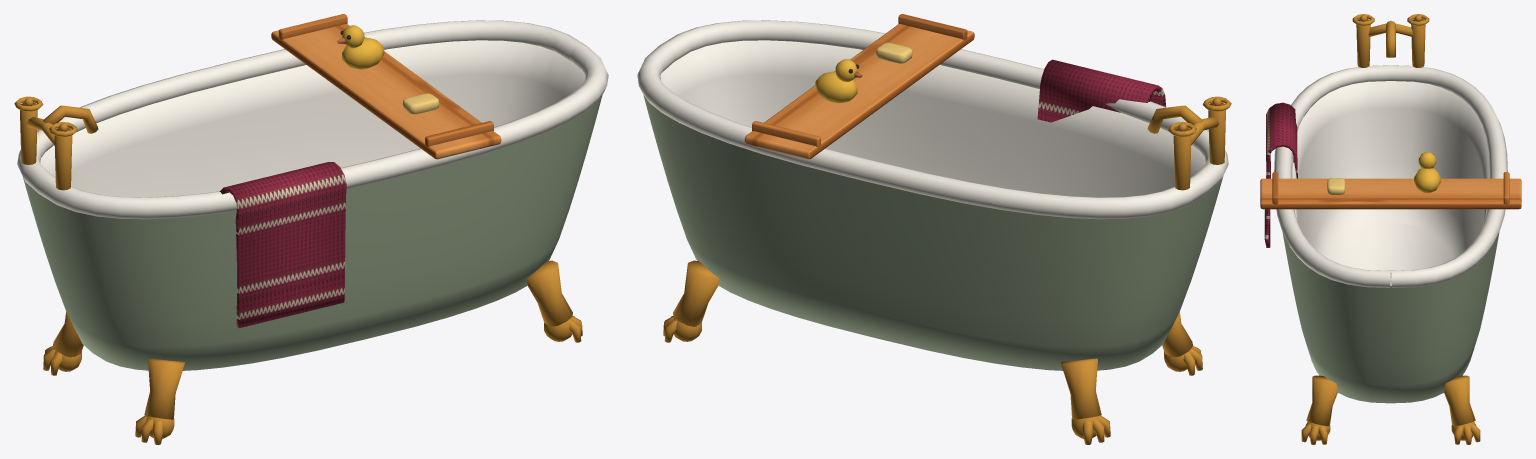
The model's file is clawfoot_bath.glb.
The picture shows the model from 3 angles, left to right: view 1: azimuth 30°, elevation 25°; view 2: azimuth 150°, elevation 25°; view 3: azimuth 270°, elevation 25°; orthographic projection. The views are drawn at different scales.
Visible parts, largest first — view 1: model; view 2: model; view 3: model.
Part boxes in pixels (<box>): model: <box>14,14,608,444</box>; model: <box>637,14,1231,444</box>; model: <box>1260,14,1521,444</box>.
Bounding box in the file's own units: 1.67 × 0.891 × 0.86.
Materials: 9 (2 with a texture image).
